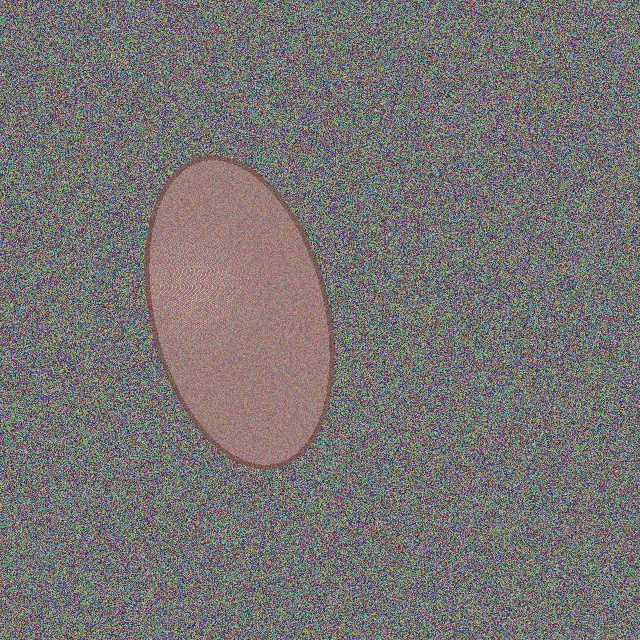lens: (147, 158, 331, 466)
